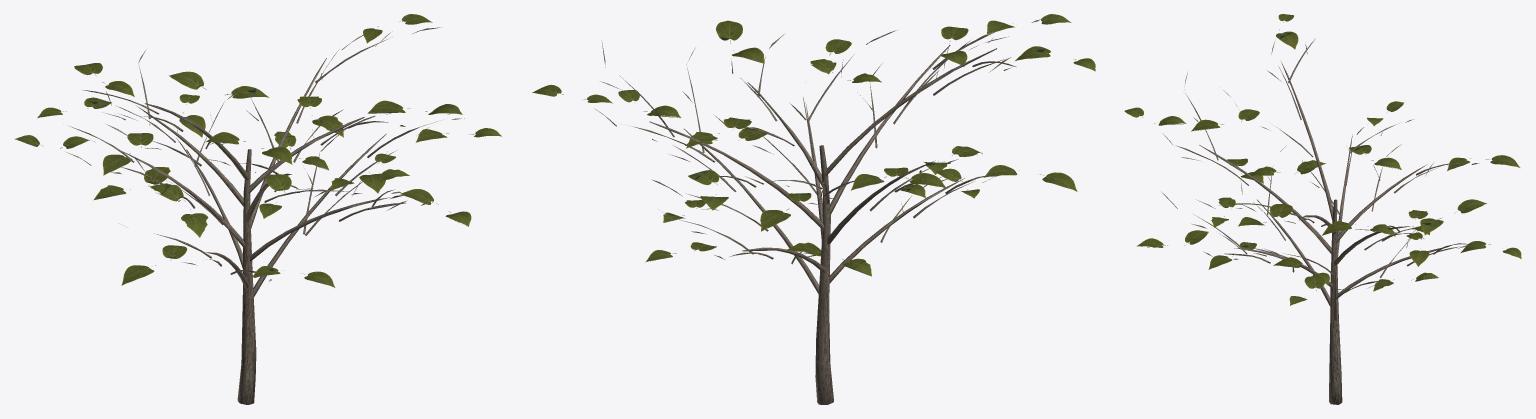
File: broussonetia-5-lite.glb
3 views of the same model, side by side, from view 1: azimuth 30°, elevation 25°; view 2: azimuth 150°, elevation 25°; view 3: azimuth 270°, elevation 25° (orthographic). The views are drawn at different scales.
Parts seen in each view (by area): view 1: bark, leaf, leaf-edge; view 2: bark, leaf, leaf-edge; view 3: bark, leaf, leaf-edge.
Boxes of the visible parts, bbox=[...] form: bark: bbox=[66, 27, 464, 404]; leaf: bbox=[14, 14, 501, 287]; leaf-edge: bbox=[21, 23, 483, 277]; bark: bbox=[594, 19, 1053, 404]; leaf: bbox=[532, 14, 1095, 276]; leaf-edge: bbox=[558, 18, 1075, 275]; bark: bbox=[1161, 38, 1479, 404]; leaf: bbox=[1124, 14, 1521, 305]; leaf-edge: bbox=[1133, 20, 1506, 288].
Bounding box in the file's own units: 3.21 × 2.37 × 2.87.
5 materials, 4 textured.
